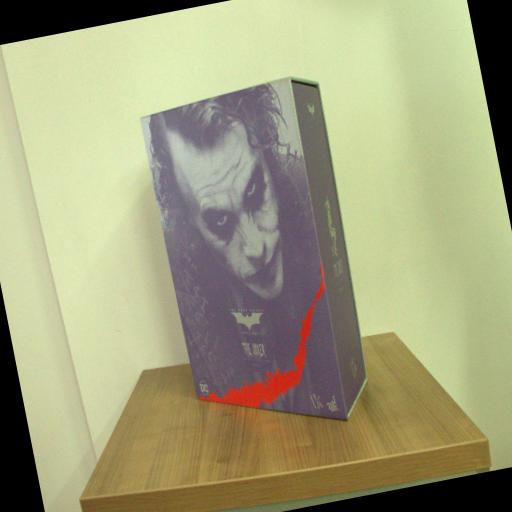Joker: (137, 71, 389, 450)
